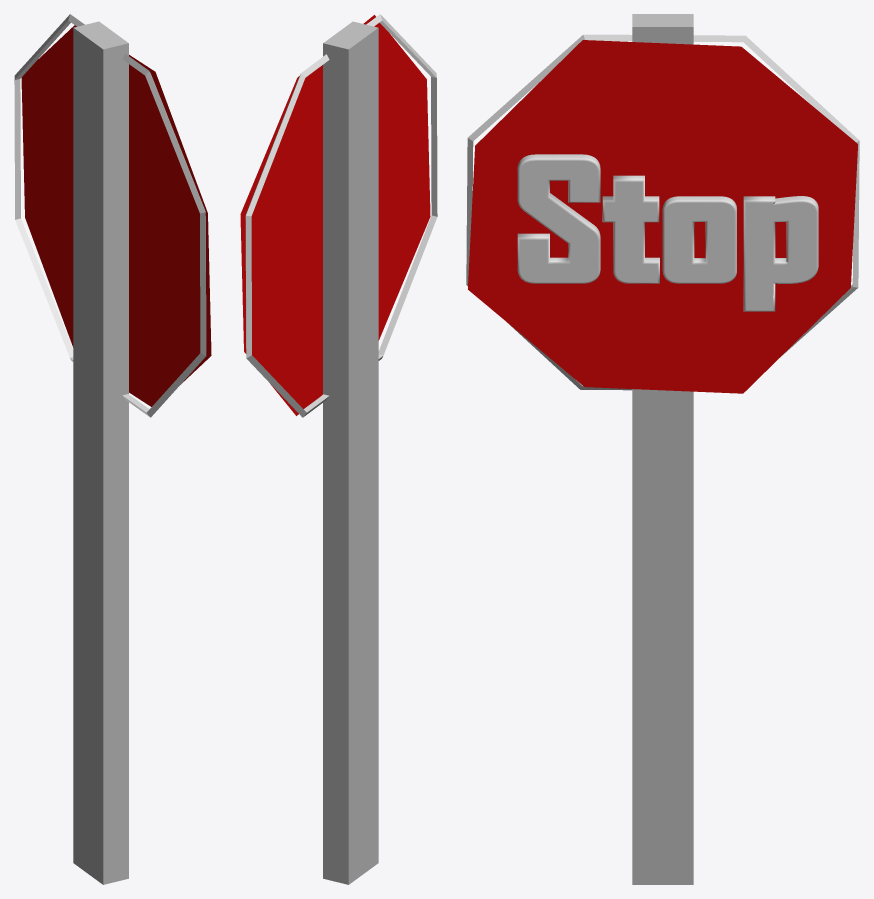
The model's file is stop.fbx.
The picture shows the model from 3 angles, left to right: view 1: azimuth 30°, elevation 25°; view 2: azimuth 150°, elevation 25°; view 3: azimuth 270°, elevation 25°; orthographic projection. The views are drawn at different scales.
Parts seen in each view (by area): view 1: Cube, Plane, Torus; view 2: Cube, Plane, Torus; view 3: Plane, Cube, Text, Torus.
Boxes of the visible parts, x1=… form: Cube: x1=73, y1=21, x2=128, y2=884; Plane: x1=21, y1=25, x2=211, y2=406; Torus: x1=14, y1=14, x2=206, y2=417; Cube: x1=323, y1=21, x2=378, y2=884; Plane: x1=240, y1=15, x2=430, y2=415; Torus: x1=245, y1=14, x2=437, y2=417; Plane: x1=468, y1=40, x2=857, y2=393; Cube: x1=632, y1=14, x2=693, y2=884; Text: x1=517, y1=154, x2=818, y2=311; Torus: x1=466, y1=34, x2=859, y2=390.
Size of the model in its own units: 25.29 by 464 by 193.
